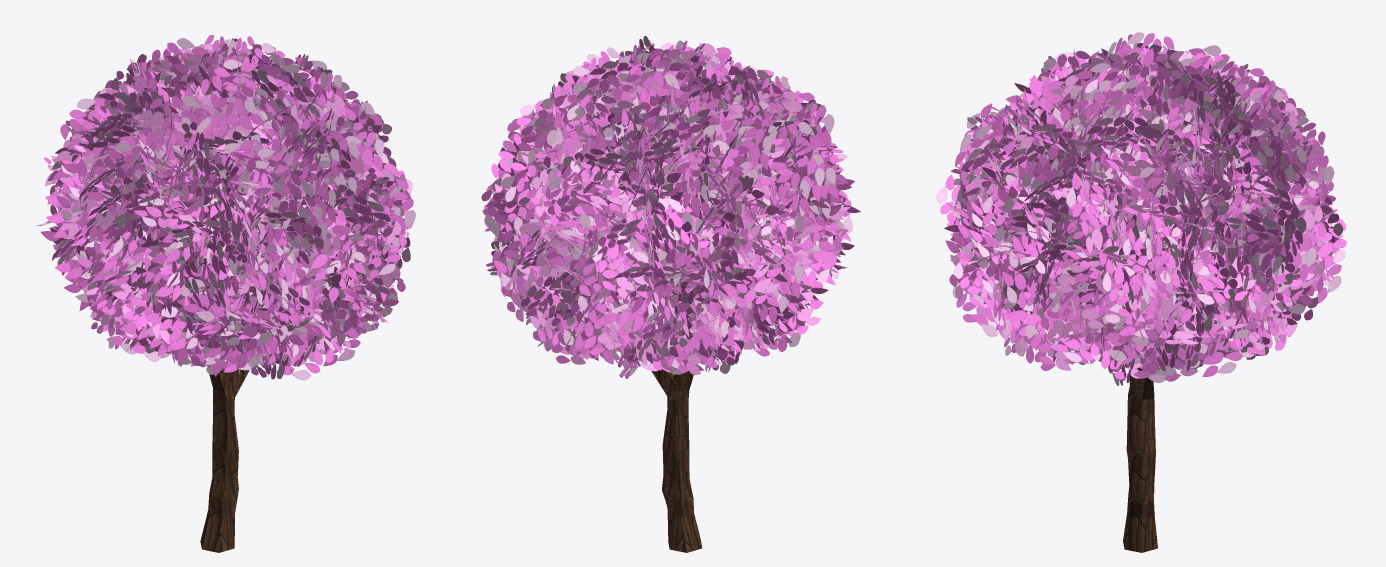
File: tree 5.fbx
3 views of the same model, side by side, from view 1: azimuth 30°, elevation 25°; view 2: azimuth 150°, elevation 25°; view 3: azimuth 270°, elevation 25° (orthographic). The views are drawn at different scales.
Visible parts, largest first — view 1: Tree Base Sakura; view 2: Tree Base Sakura; view 3: Tree Base Sakura.
Boxes of the visible parts, x1,y1,x2,y2 form: Tree Base Sakura: (36, 34, 415, 552); Tree Base Sakura: (481, 35, 860, 552); Tree Base Sakura: (936, 32, 1346, 552).
Bounding box in the file's own units: 1471 × 1955 × 1561.
